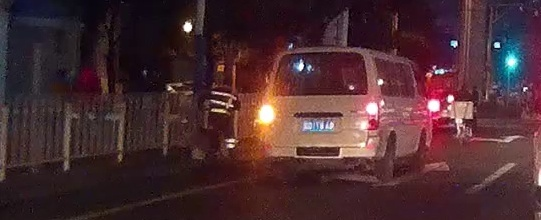L_light: (259, 101, 274, 129)
R_light: (365, 100, 380, 129)
T_light: (312, 52, 331, 58)
night-left: (259, 47, 379, 182)
